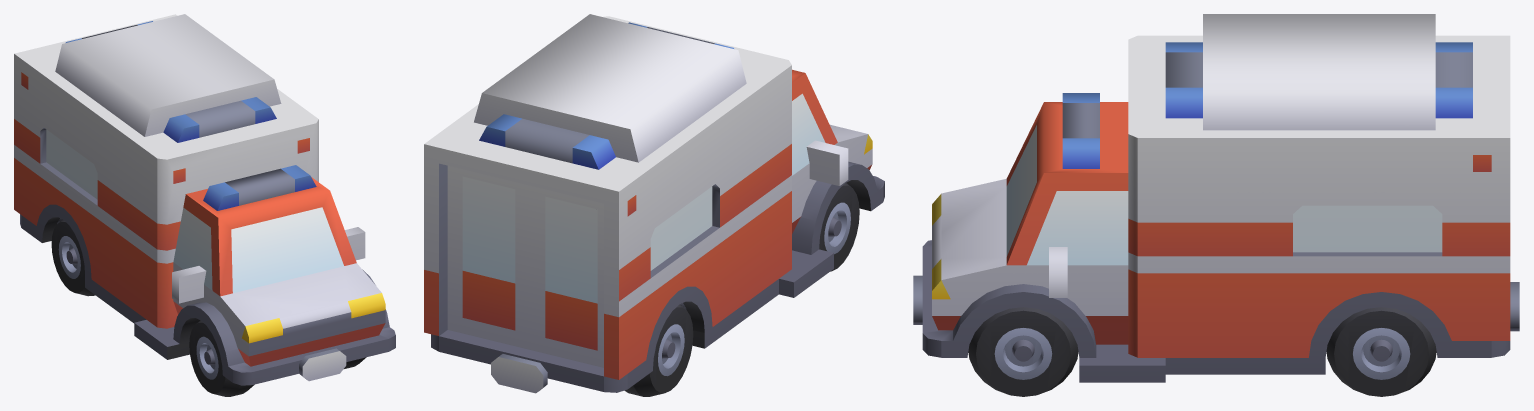
Rendered from ambulance.glb.
3 views of the same model, side by side, from view 1: azimuth 30°, elevation 25°; view 2: azimuth 150°, elevation 25°; view 3: azimuth 270°, elevation 25° (orthographic). The views are drawn at different scales.
Parts seen in each view (by area): view 1: body, wheel-front-right, wheel-back-right; view 2: body, door-left, door-right, wheel-back-right, wheel-front-right; view 3: body, wheel-back-left, wheel-front-left.
Boxes of the visible parts, x1=… form: body: x1=14, y1=14, x2=395, y2=385; wheel-front-right: x1=189, y1=320, x2=254, y2=396; wheel-back-right: x1=51, y1=219, x2=95, y2=296; body: x1=424, y1=14, x2=884, y2=393; door-left: x1=447, y1=165, x2=530, y2=349; door-right: x1=530, y1=186, x2=603, y2=367; wheel-back-right: x1=624, y1=304, x2=693, y2=396; wheel-front-right: x1=819, y1=183, x2=859, y2=271; body: x1=913, y1=14, x2=1519, y2=382; wheel-back-left: x1=1326, y1=307, x2=1436, y2=396; wheel-front-left: x1=968, y1=307, x2=1078, y2=396.
Bounding box in the file's own units: 1.5 × 1.8 × 3.25.
Materials: 1 (1 with a texture image).
